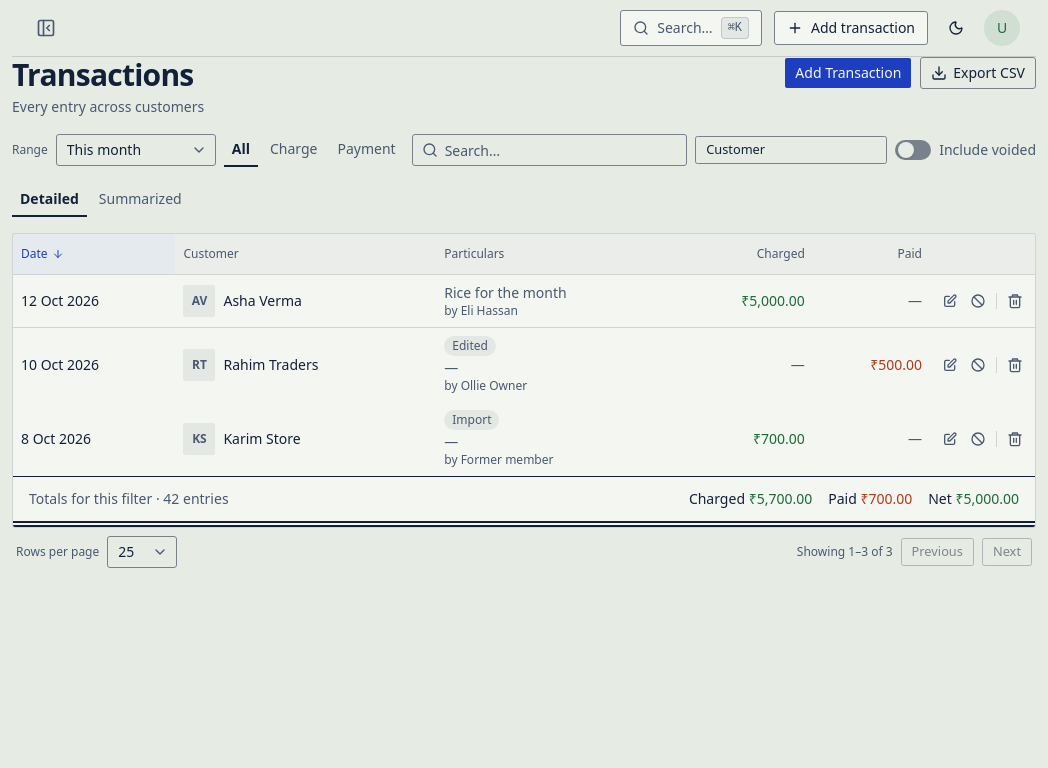
Test: S-35 transactions page v2 › summarized view: database-computed periods, labels and the group-by control
Click the button "Summarized" at {"x": 140, "y": 200}, box [91,183,190,217]
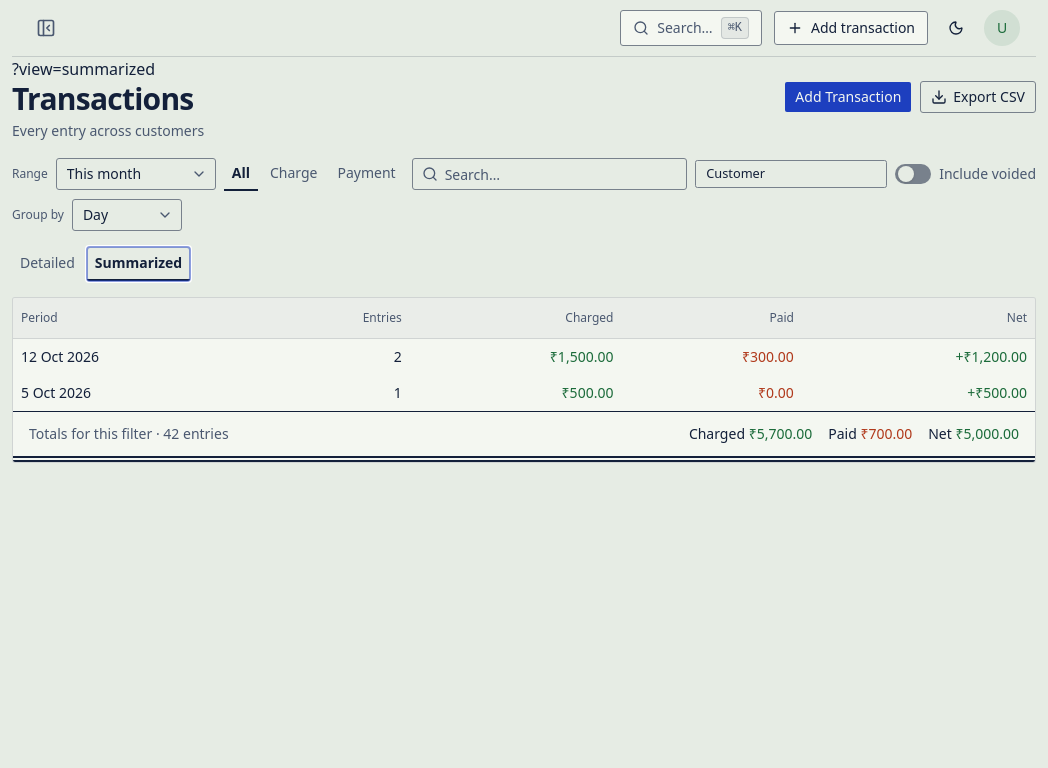
expect the text with test id "url" shows "view=summarized": met, box [12,58,155,80]
expect the column heading "Period" is shown: met, box [13,298,263,338]
expect the column heading "Entries" is shown: met, box [263,298,410,338]
Note: Week grouping re-cuts the buckets server-side.
Click the dropdown named "Group by" at {"x": 127, "y": 215}, box [72,199,182,231]
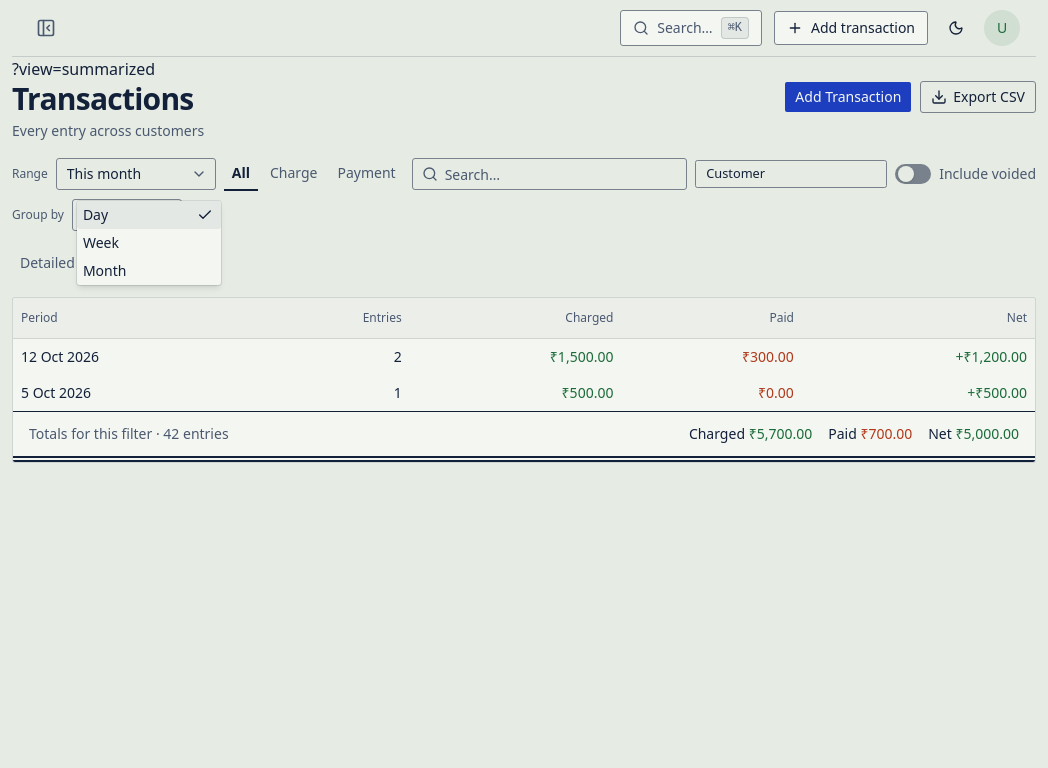
Click the option "Week" at {"x": 101, "y": 242}, box [83,233,119,252]
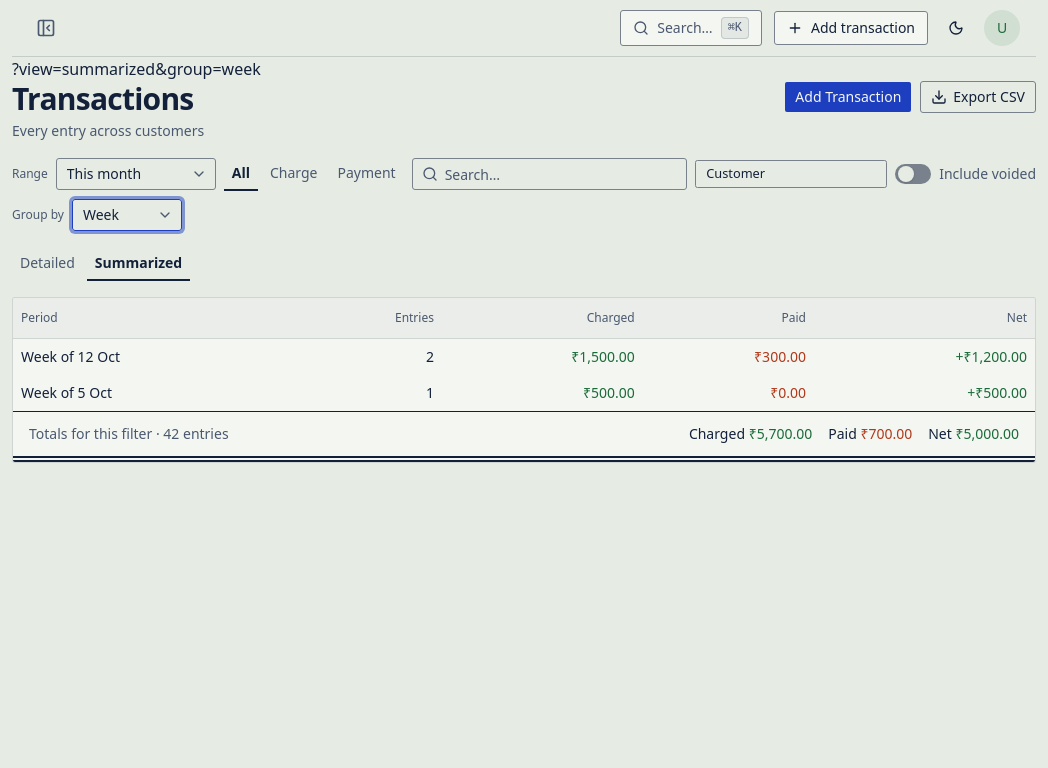
expect the text "Week of 12 Oct" is shown: met, box [21,346,120,366]
expect the text with test id "url" shows "group=week": met, box [12,58,261,80]
